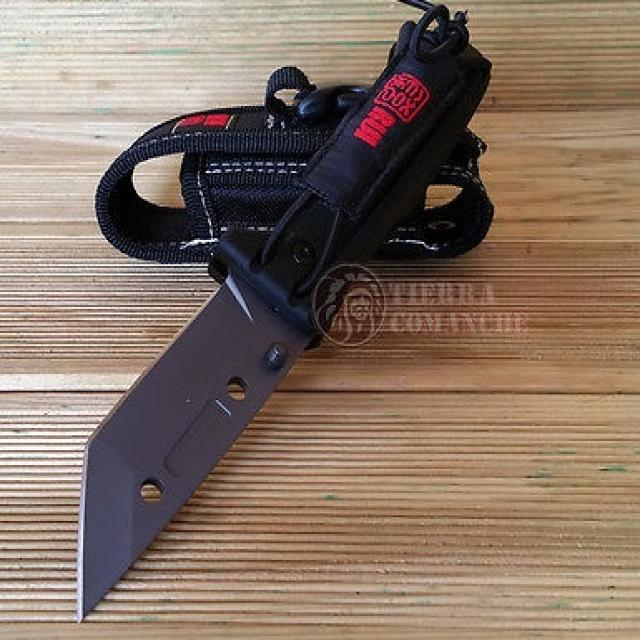knife: (57, 16, 489, 619)
